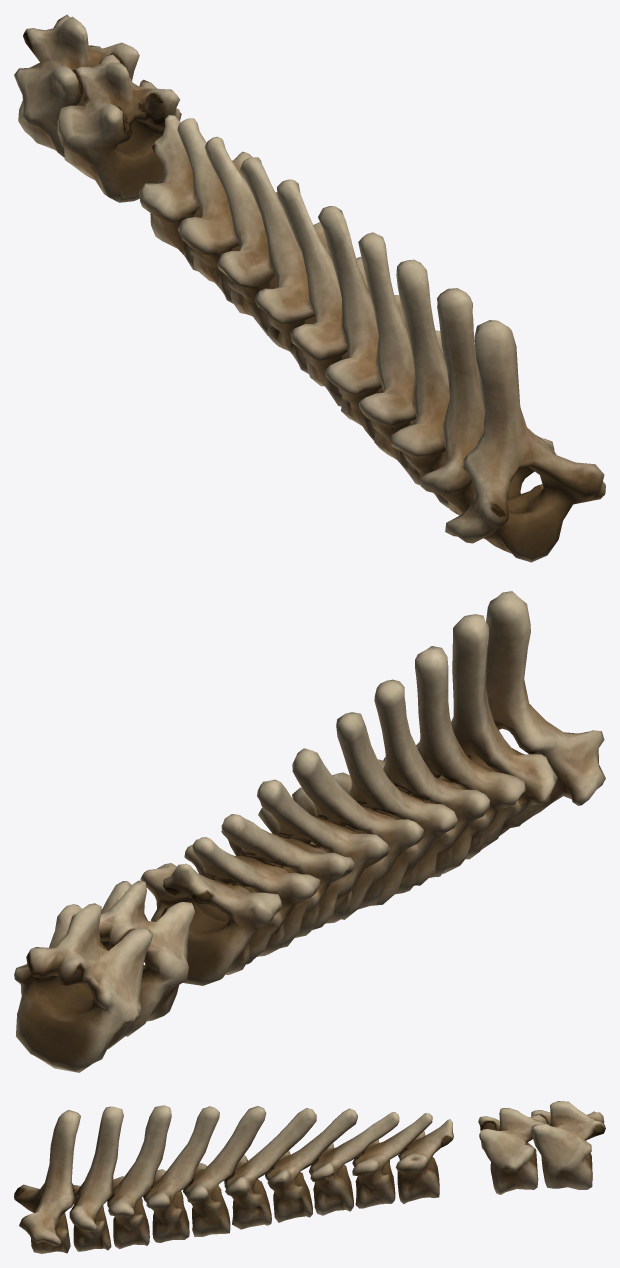
File: Thoracic_Vertebrae.glb
The picture shows the model from 3 angles, top to bottom: view 1: azimuth 30°, elevation 25°; view 2: azimuth 150°, elevation 25°; view 3: azimuth 270°, elevation 25°; orthographic projection. The views are drawn at different scales.
Parts seen in each view (by area): view 1: Thoracic_Vertebrae1:Group14434; view 2: Thoracic_Vertebrae1:Group14434; view 3: Thoracic_Vertebrae1:Group14434.
Part boxes in pixels (x1=…): Thoracic_Vertebrae1:Group14434: x1=14, y1=14, x2=605, y2=562; Thoracic_Vertebrae1:Group14434: x1=14, y1=591, x2=605, y2=1072; Thoracic_Vertebrae1:Group14434: x1=14, y1=1101, x2=605, y2=1253.
Size of the model in its own units: 35.88 by 51.94 by 196.
Materials: 1 (1 with a texture image).
